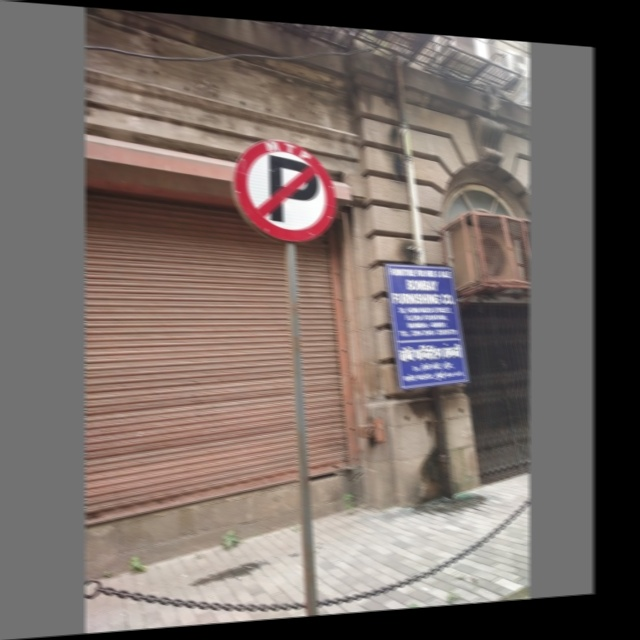No_Parking: (233, 132, 339, 244)
